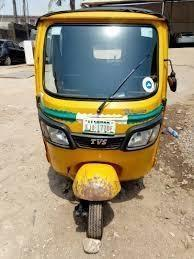keke: (32, 2, 175, 248)
